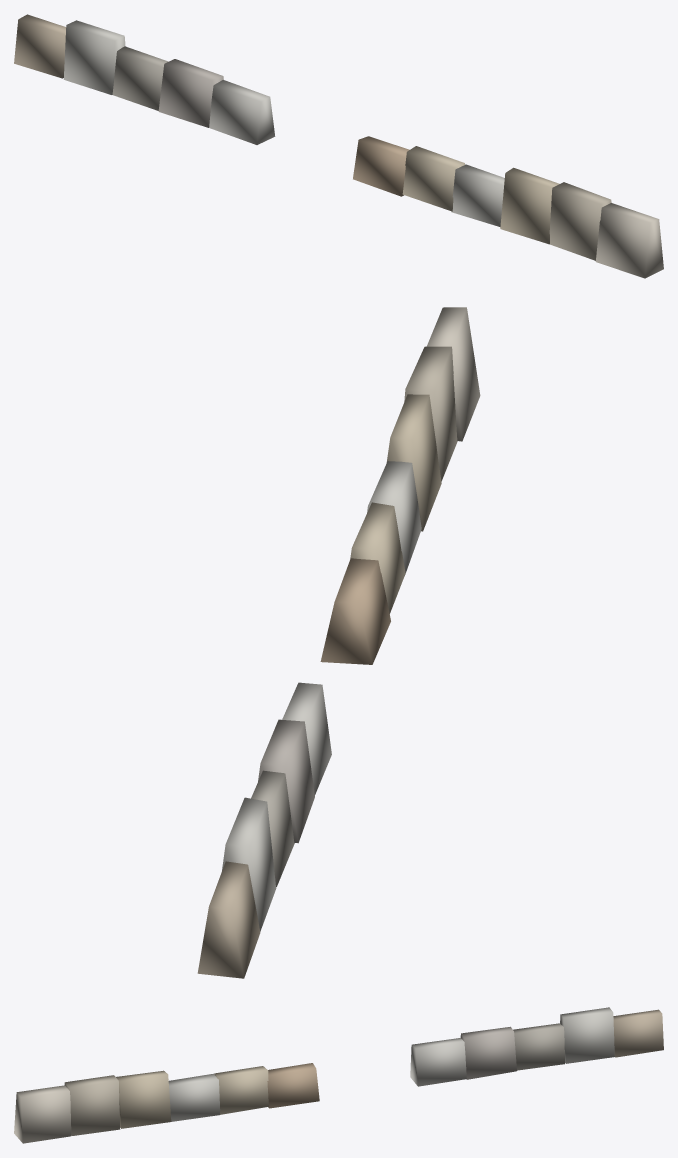
The model's file is farm_-24_-24_far.glb.
3 views of the same model, one above another, from view 1: azimuth 30°, elevation 25°; view 2: azimuth 150°, elevation 25°; view 3: azimuth 270°, elevation 25° (orthographic). The views are drawn at different scales.
Visible parts, largest first — view 1: geometry_0; view 2: geometry_0; view 3: geometry_0.
Part boxes in pixels (bbox=[...]): geometry_0: bbox=[14, 14, 663, 278]; geometry_0: bbox=[197, 307, 480, 978]; geometry_0: bbox=[14, 1007, 663, 1143].
Size of the model in its own units: 7.47 by 1.69 by 18.86.
